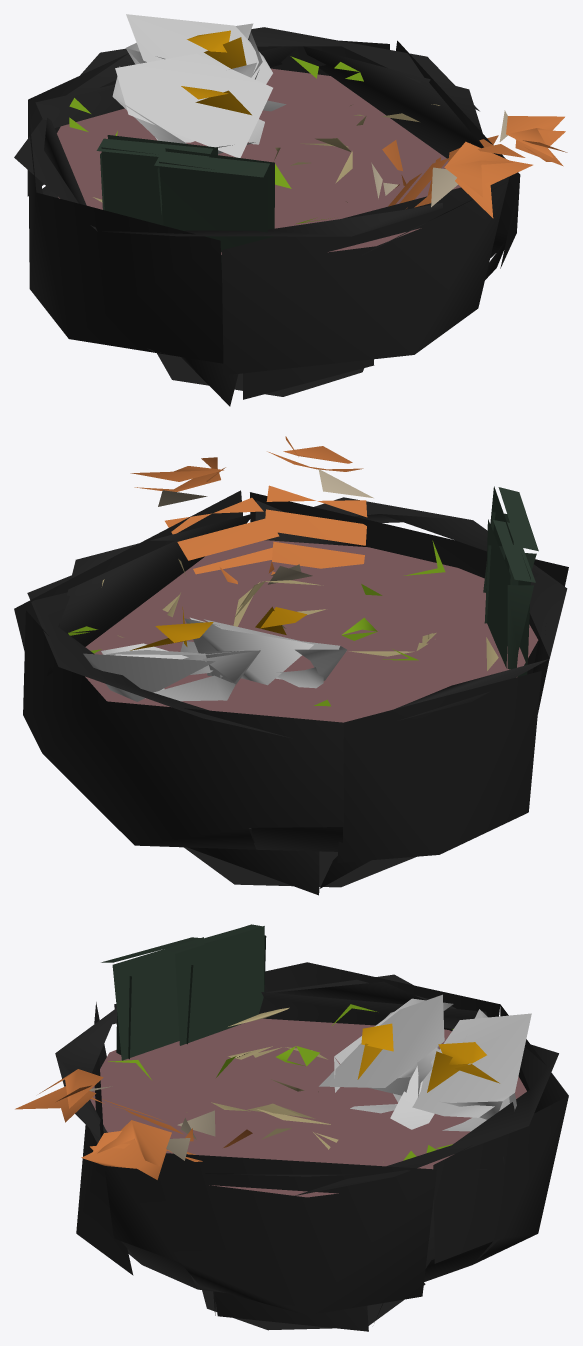
The model's file is ramen.fbx.
3 views of the same model, one above another, from view 1: azimuth 30°, elevation 25°; view 2: azimuth 150°, elevation 25°; view 3: azimuth 270°, elevation 25° (orthographic). The views are drawn at different scales.
Parts seen in each view (by area): view 1: Food_Ramen; view 2: Food_Ramen; view 3: Food_Ramen.
Boxes of the visible parts, bbox=[...] form: Food_Ramen: bbox=[14, 14, 567, 406]; Food_Ramen: bbox=[14, 436, 568, 895]; Food_Ramen: bbox=[15, 924, 568, 1331].
Bounding box in the file's own units: 0.951 × 0.5524 × 1.
